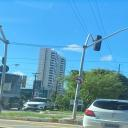NoVirarEsquerda: (73, 75, 87, 85)
